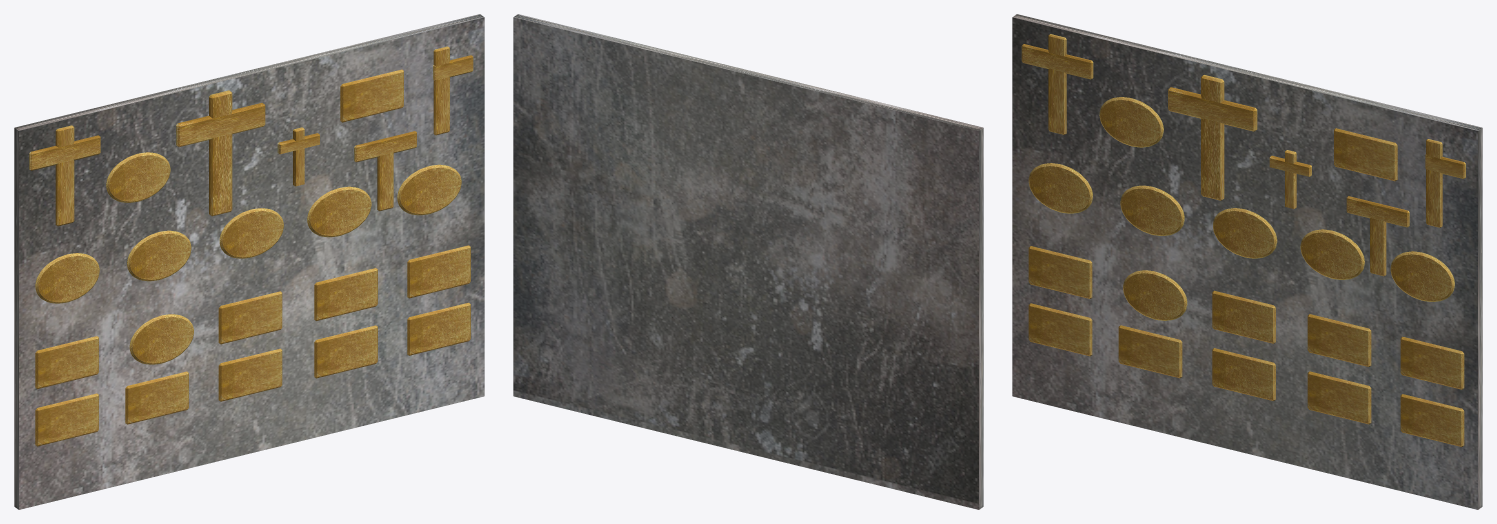
Rendered from WallCross.fbx.
The picture shows the model from 3 angles, left to right: view 1: azimuth 30°, elevation 25°; view 2: azimuth 150°, elevation 25°; view 3: azimuth 330°, elevation 25°; orthographic projection.
Visible parts, largest first — view 1: pCube1, pCube5, pCube4, pCube15, pCube10, pCube12, pCube18, pCube14, pCube16, pCube9, pCube11, pCube13 (+11 smaller); view 2: pCube1; view 3: pCube1, pCube5, pCube4, pCube12, pCube17, pCube9, pCube16, pCube14, pCube11, pCube13, pCube18, pCube15 (+11 smaller).
Boxes of the visible parts, box(x1,y1,x2,y2) form: pCube1: box(14, 14, 484, 509); pCube5: box(176, 90, 265, 216); pCube4: box(29, 125, 100, 226); pCube15: box(218, 348, 282, 401); pCube10: box(218, 291, 282, 344); pCube12: box(407, 245, 470, 298); pCube18: box(340, 69, 403, 122); pCube14: box(125, 371, 188, 424); pCube16: box(314, 325, 377, 378); pCube9: box(35, 336, 98, 388); pCube11: box(314, 268, 377, 320); pCube13: box(35, 393, 98, 446); pCube1: box(513, 14, 983, 509); pCube1: box(1012, 14, 1482, 509); pCube5: box(1168, 75, 1257, 200); pCube4: box(1021, 34, 1093, 134); pCube12: box(1400, 336, 1464, 389); pCube17: box(1400, 394, 1464, 446); pCube9: box(1028, 246, 1092, 298); pCube16: box(1307, 371, 1371, 424); pCube14: box(1118, 325, 1182, 378); pCube11: box(1307, 314, 1371, 366); pCube13: box(1028, 303, 1092, 356); pCube18: box(1334, 128, 1397, 181); pCube15: box(1212, 348, 1275, 400).
Bounding box in the file's own units: 12.9 × 10.03 × 0.3285.
